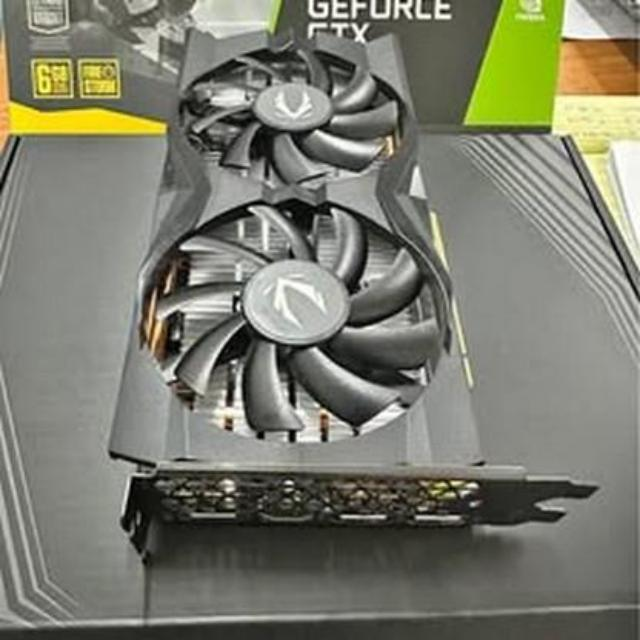GPU: (107, 24, 502, 562)
